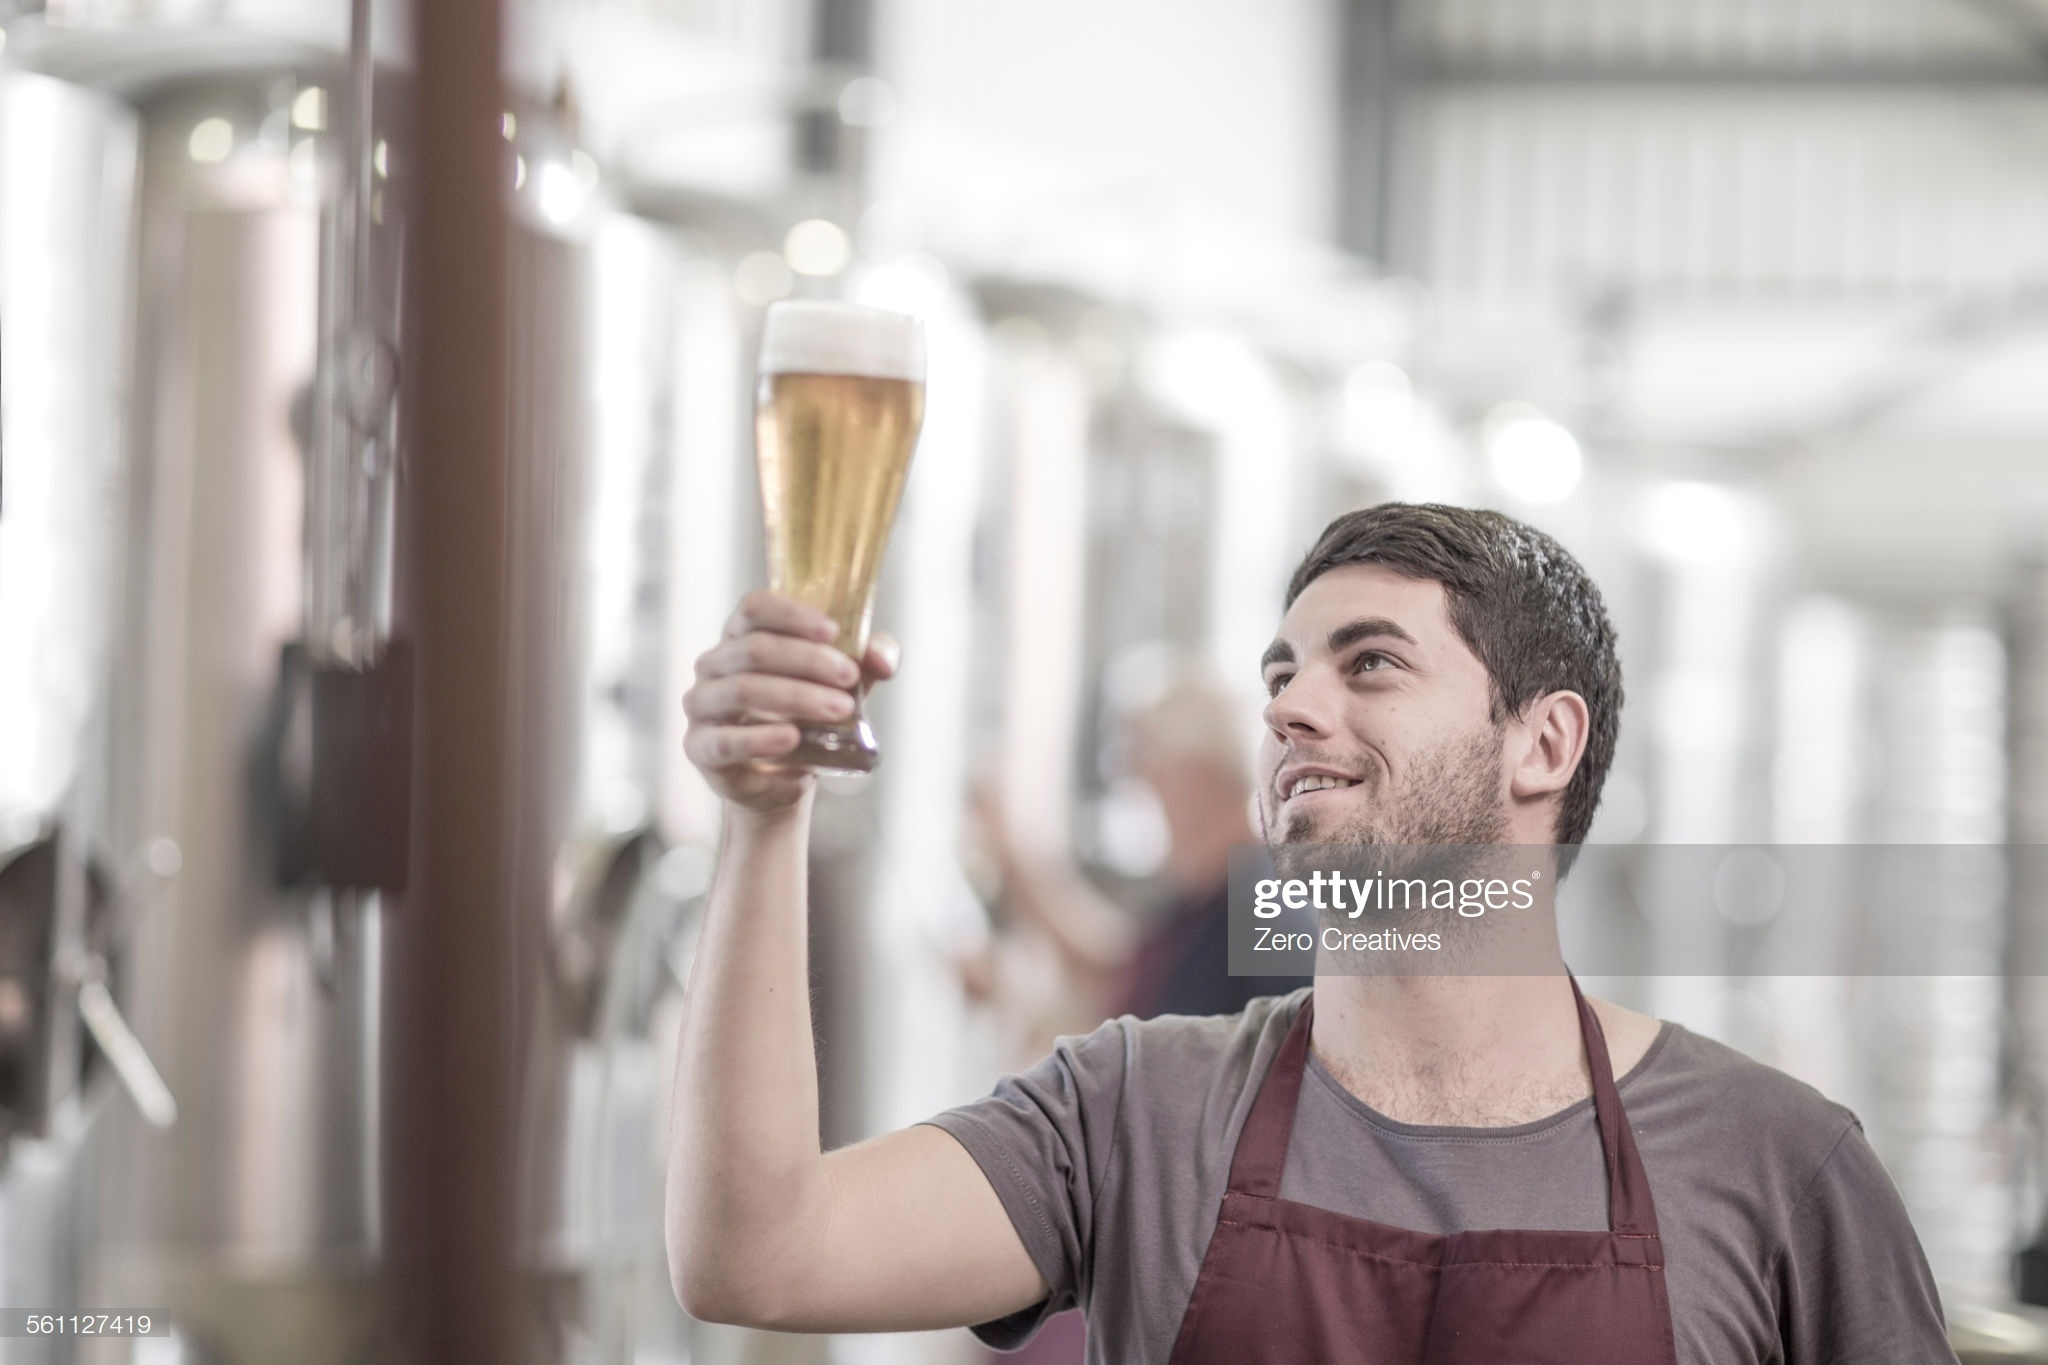whiskey: (707, 308, 914, 766)
